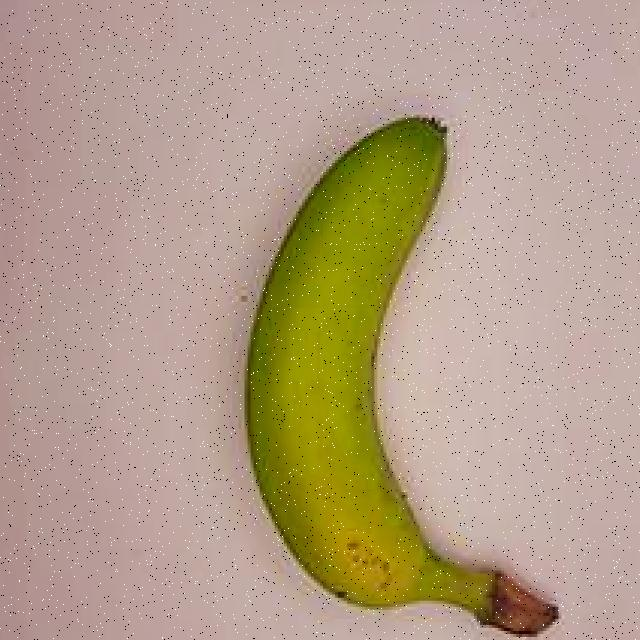Unripe: (151, 63, 610, 640)
